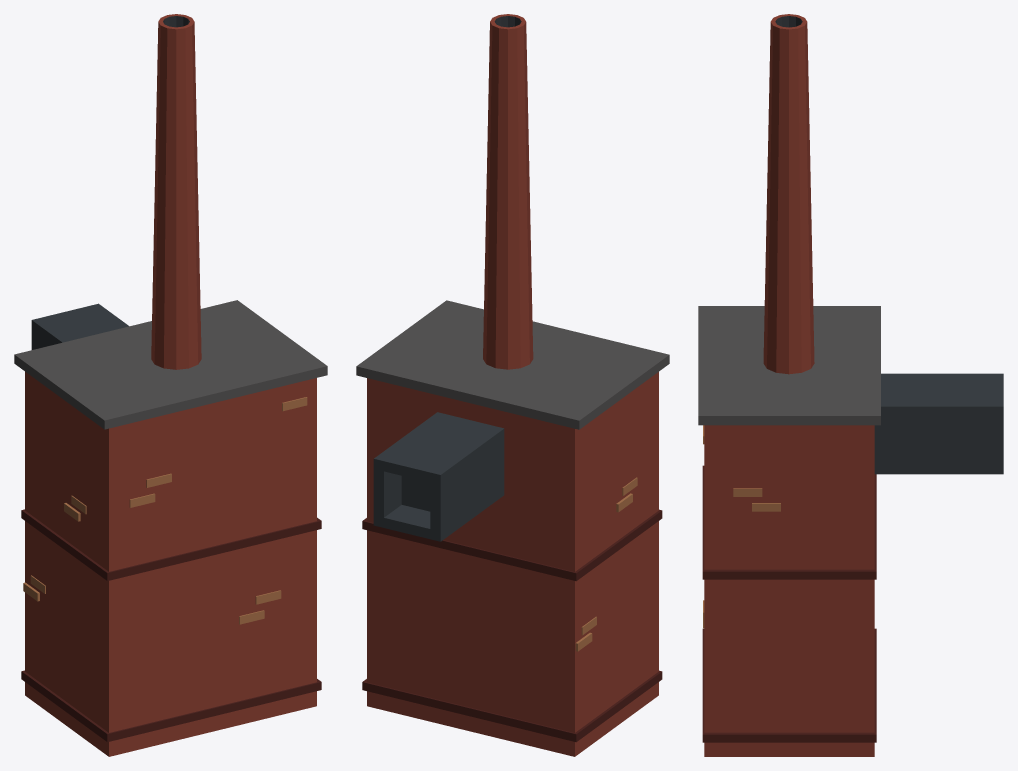
The model's file is FactoryChimney_1.fbx.
The picture shows the model from 3 angles, left to right: view 1: azimuth 30°, elevation 25°; view 2: azimuth 150°, elevation 25°; view 3: azimuth 270°, elevation 25°; orthographic projection.
Parts seen in each view (by area): view 1: FactoryChimney_1; view 2: FactoryChimney_1; view 3: FactoryChimney_1.
Part boxes in pixels (bbox=[...]): FactoryChimney_1: bbox=[14, 14, 327, 756]; FactoryChimney_1: bbox=[356, 14, 669, 756]; FactoryChimney_1: bbox=[698, 14, 1003, 756].
Size of the model in its own units: 377 by 1096 by 442.
